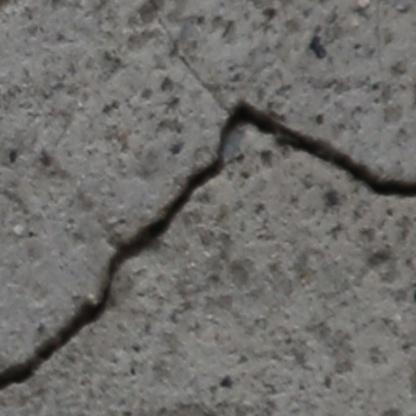Cracks: (0, 97, 416, 407)
